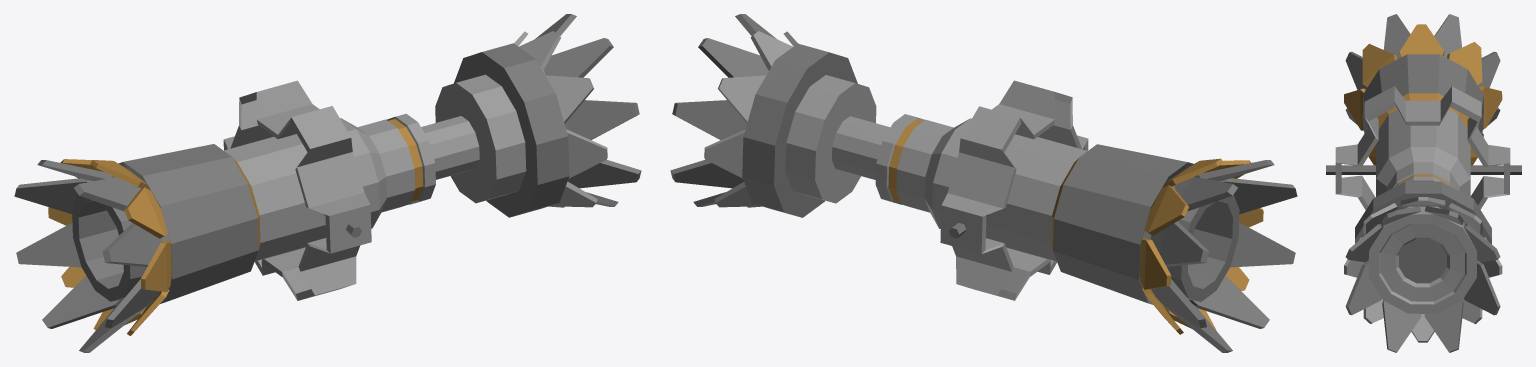
The picture shows the model from 3 angles, left to right: view 1: azimuth 30°, elevation 25°; view 2: azimuth 150°, elevation 25°; view 3: azimuth 270°, elevation 25°; orthographic projection. The views are drawn at different scales.
Parts seen in each view (by area): view 1: Props_Laser; view 2: Props_Laser; view 3: Props_Laser.
Boxes of the visible parts, x1=… form: Props_Laser: x1=14, y1=14, x2=641, y2=352; Props_Laser: x1=670, y1=14, x2=1297, y2=352; Props_Laser: x1=1326, y1=14, x2=1521, y2=352.
Size of the model in its own units: 3.84 by 1.29 by 1.46.
